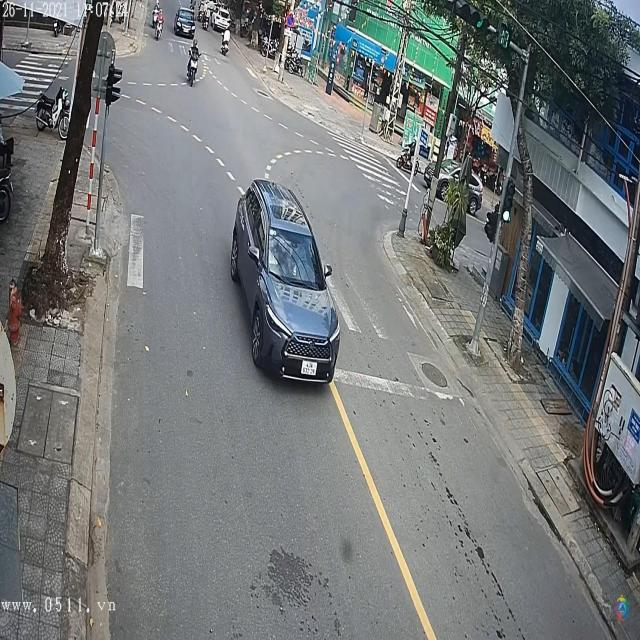car: (231, 180, 341, 385), (176, 9, 196, 37)
motorcycle: (187, 46, 203, 85)
